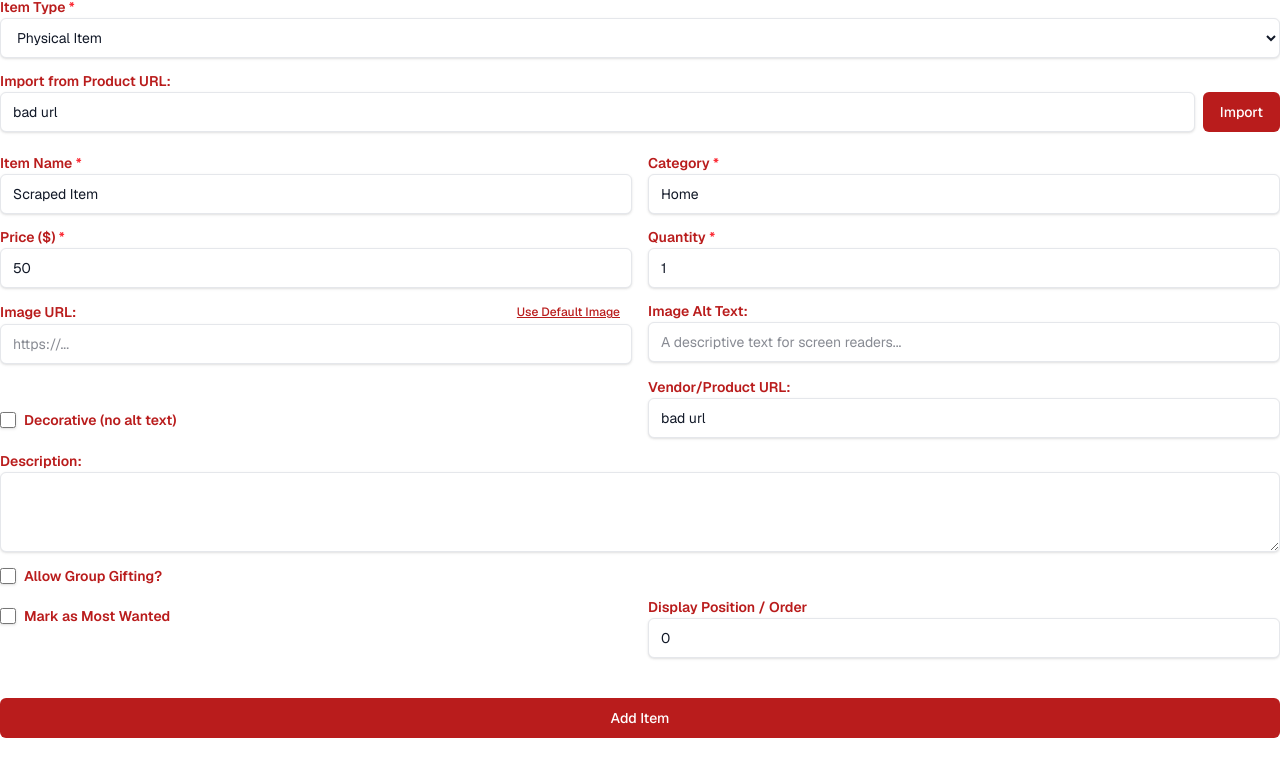
Test: RegistryItemForm › displays contextual site advice when scraper encounters BLOCKED_BY_VENDOR error for Costco and focuses Item Name
The width and height of the screenshot is (1280, 777).
Replace the text in the field labelled "Import from Product URL:" with "https://www.costco.com/sample-item": (597,112) [0,92,1195,132]
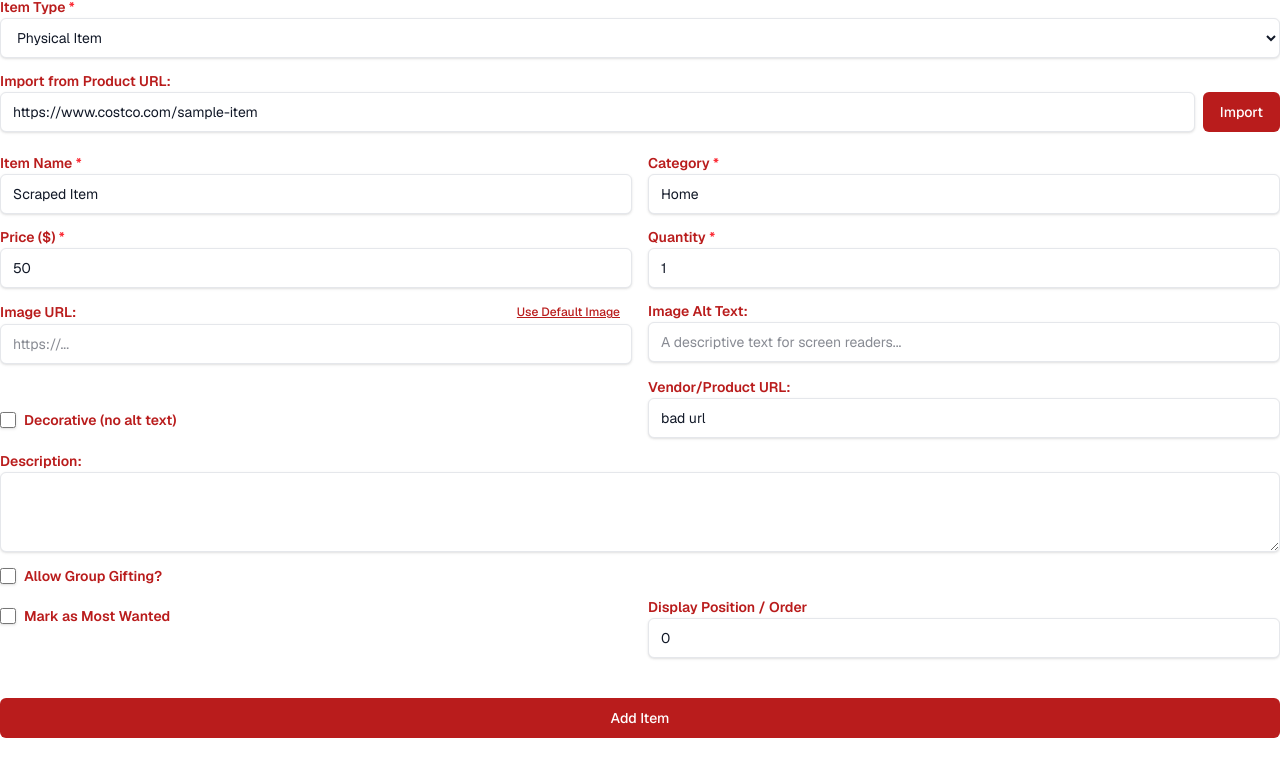
Click the button "Import": (1241,112) [1203,92,1279,132]
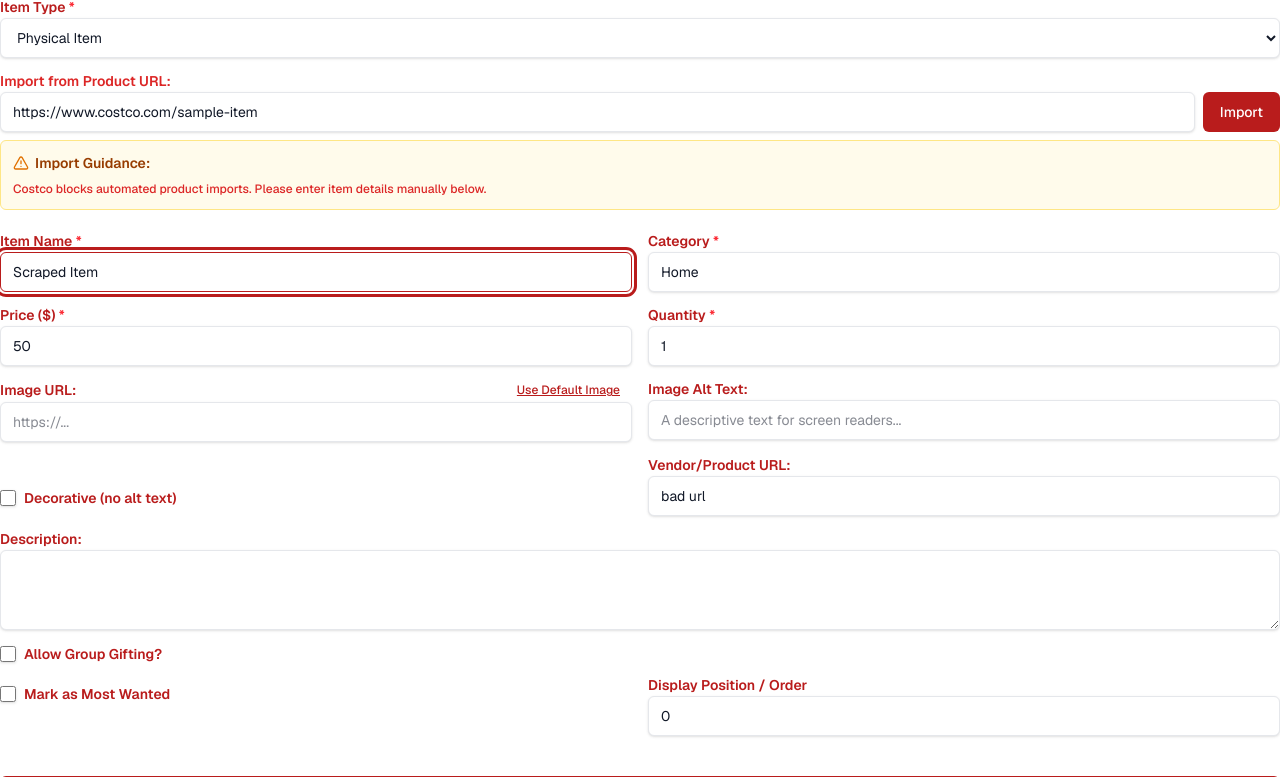
Now the text "Costco blocks automated product imports. Please enter item details manually below." is shown, box [13,181,486,197]
